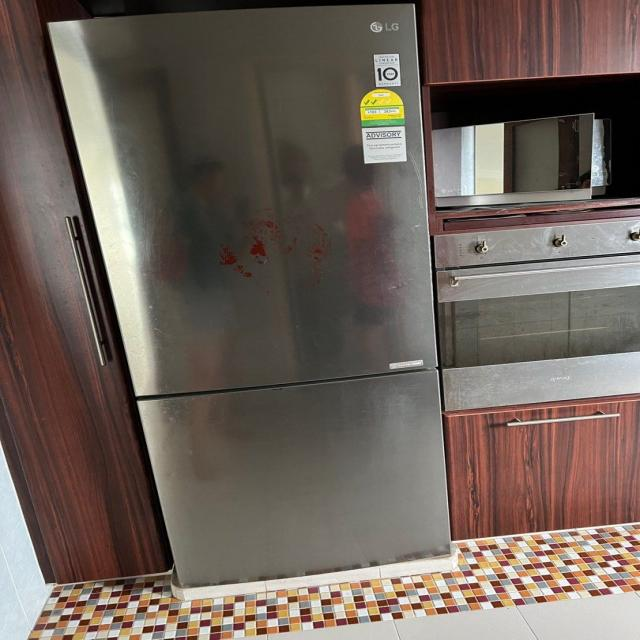refrigerator: (48, 1, 454, 594)
